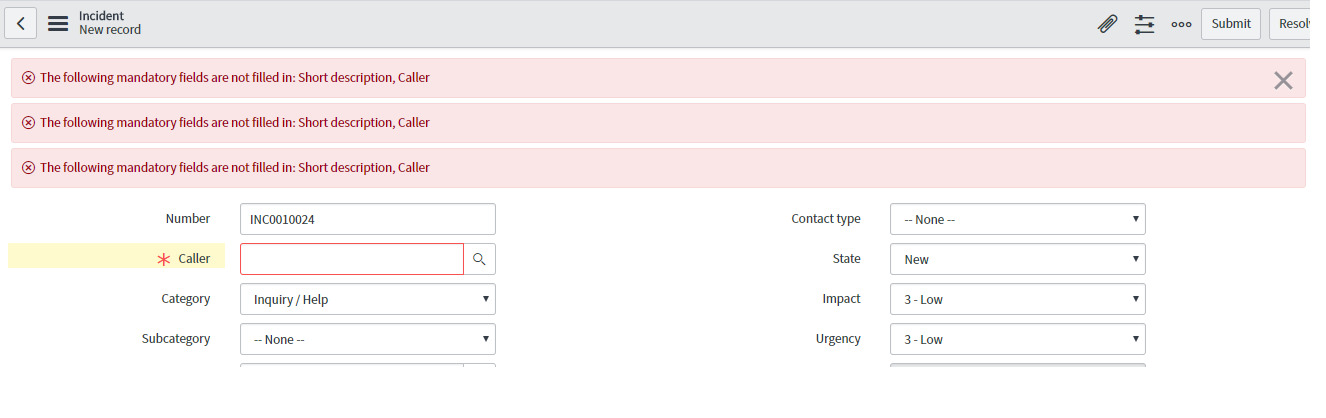error_field: (238, 240, 465, 276)
error_message: (37, 113, 433, 132), (37, 68, 434, 86), (38, 159, 433, 177)
